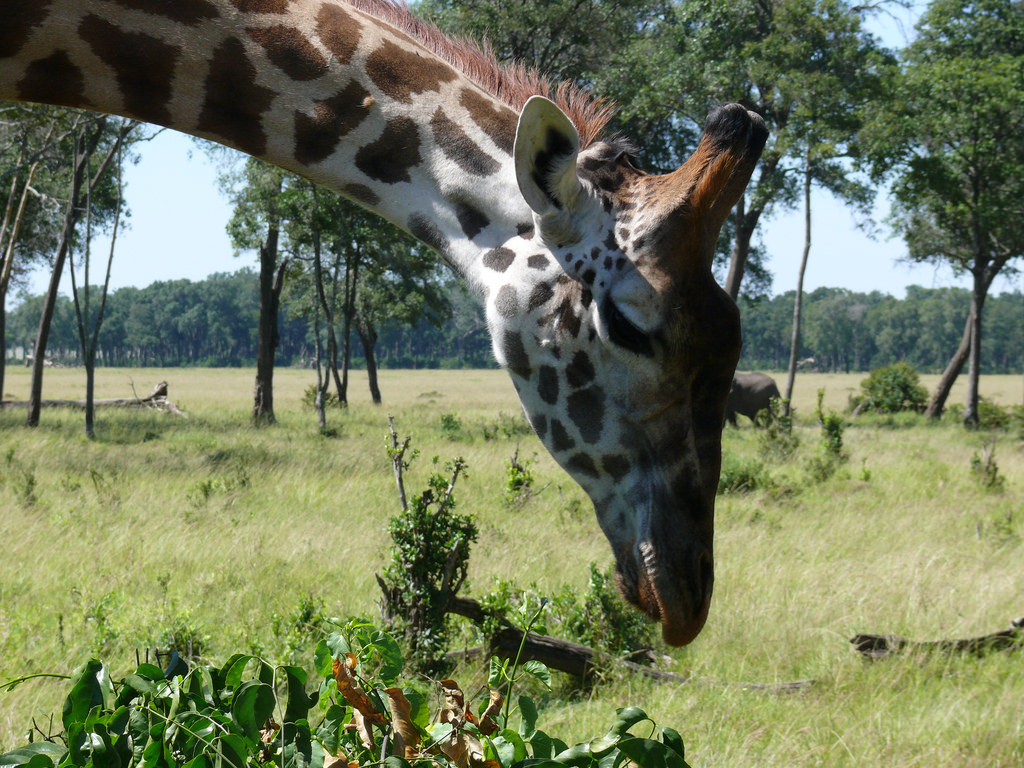giraffe: (17, 22, 773, 653)
